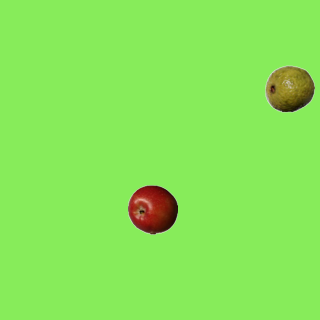Apple Braeburn: (127, 184, 177, 234)
Guava: (264, 63, 314, 113)
